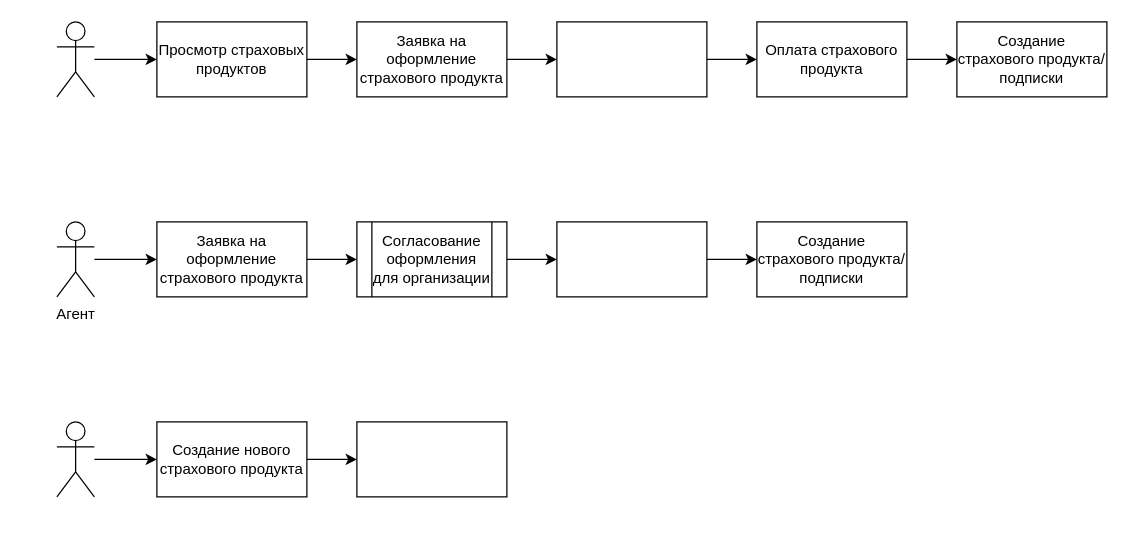
This 1129x545 diagram has some shape labels left out. The shapes that lost their labels are listed below. From the top down, each one's centre as x and y in pixels, then its label:
(75,59): Физ. лицо
(631,59): Расчет стоимости страхового продукта
(631,259): Подготовка документов
(75,459): Администратор
(431,459): Загрузка страхового продукта на платформу
